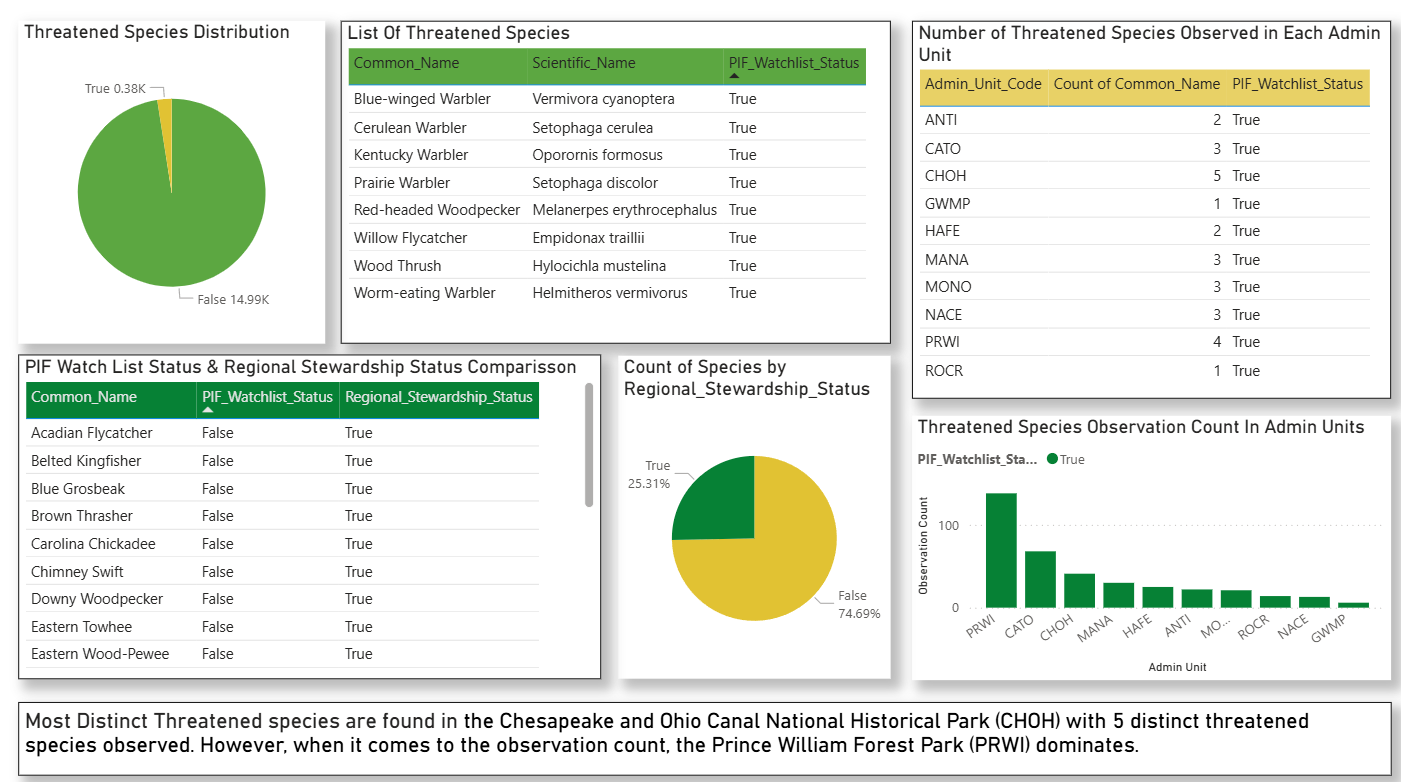

The page's visual inventory and layout, read from the dashboard file:
{"tool":"powerbi","page":{"name":"Threatened Species Analysis","canvas":[1280,720],"ordinal":2},"visuals":[{"type":"tableEx","title":"List Of Threatened Species","fields":{"Values":["cleaned_bird_dataset.Common_Name","cleaned_bird_dataset.Scientific_Name","cleaned_bird_dataset.PIF_Watchlist_Status"]},"box":[314.8,29.9,495.6,291.4],"z":0},{"type":"pieChart","title":"Threatened Species Distribution","fields":{"Category":["cleaned_bird_dataset.PIF_Watchlist_Status"],"Y":["CountNonNull(cleaned_bird_dataset.PIF_Watchlist_Status)"]},"box":[23.4,29.9,277.1,291.4],"z":1000},{"type":"tableEx","title":"Number of Threatened Species Observed in Each Admin Unit","fields":{"Values":["cleaned_bird_dataset.Admin_Unit_Code","cleaned_bird_dataset.Common_Name1","cleaned_bird_dataset.PIF_Watchlist_Status"]},"box":[829.9,29.9,431.9,340.8],"z":2000},{"type":"columnChart","title":"Threatened Species Observation Count In Admin Units","fields":{"Category":["cleaned_bird_dataset.Admin_Unit_Code"],"Y":["CountNonNull(cleaned_bird_dataset.Common_Name)"],"Series":["cleaned_bird_dataset.PIF_Watchlist_Status"]},"box":[829.9,386.3,431.9,238],"z":3000},{"type":"textbox","box":[23.4,645.2,1238.4,66.3],"z":4000},{"type":"pieChart","title":"Count of Species by Regional_Stewardship_Status","fields":{"Category":["cleaned_bird_dataset.Regional_Stewardship_Status"],"Y":["CountNonNull(cleaned_bird_dataset.Common_Name)"]},"box":[564.6,333,245.9,291.4],"z":5000},{"type":"tableEx","title":"PIF Watch List Status & Regional Stewardship Status Comparisson","fields":{"Values":["cleaned_bird_dataset.Common_Name","cleaned_bird_dataset.PIF_Watchlist_Status","cleaned_bird_dataset.Regional_Stewardship_Status"]},"box":[23.4,331.7,525.5,292.7],"z":6000}]}

Visuals, with their boxes in screenshot pixels (x1, y1, x2, y2), scaled from the page's 1280x720 canvas onto the 1401x782 screenshot:
"List Of Threatened Species" tableEx: box=[345, 32, 887, 349]
"Threatened Species Distribution" pieChart: box=[26, 32, 329, 349]
"Number of Threatened Species Observed in Each Admin Unit" tableEx: box=[908, 32, 1381, 403]
"Threatened Species Observation Count In Admin Units" columnChart: box=[908, 420, 1381, 678]
textbox: box=[26, 701, 1381, 773]
"Count of Species by Regional_Stewardship_Status" pieChart: box=[618, 362, 887, 678]
"PIF Watch List Status & Regional Stewardship Status Comparisson" tableEx: box=[26, 360, 601, 678]
